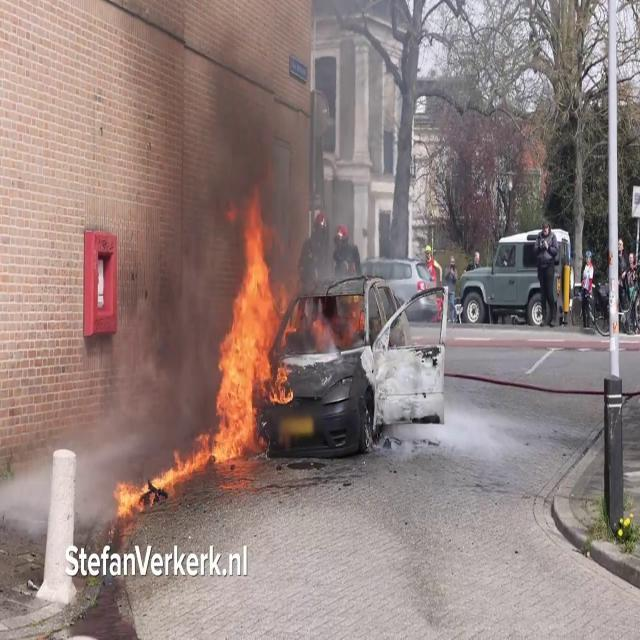Fire: (210, 206, 296, 468), (111, 430, 213, 516)
Smoke: (108, 6, 254, 452)
